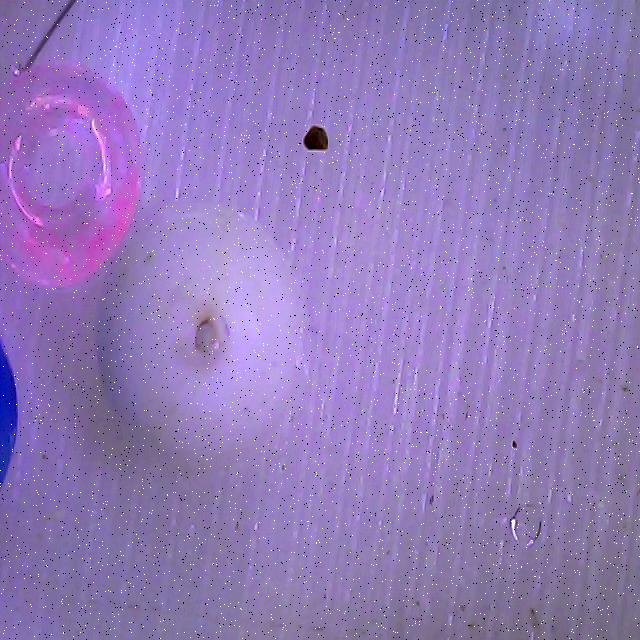beads: (90, 200, 310, 474), (0, 64, 140, 287)
